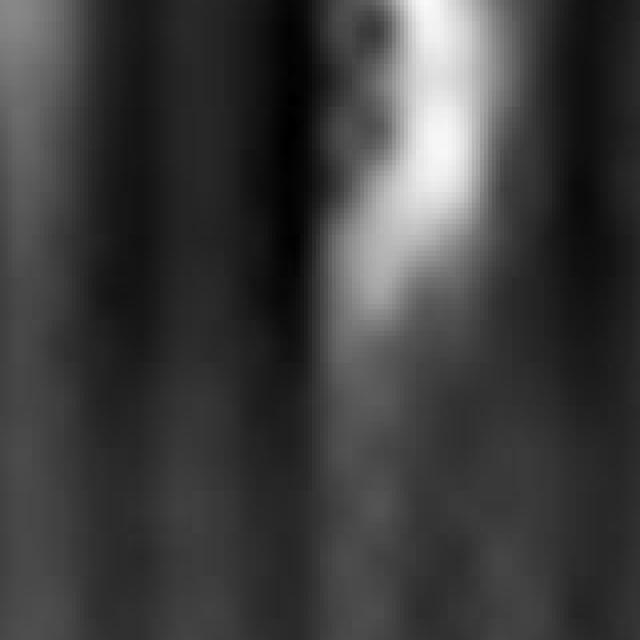person: (313, 1, 509, 358)
